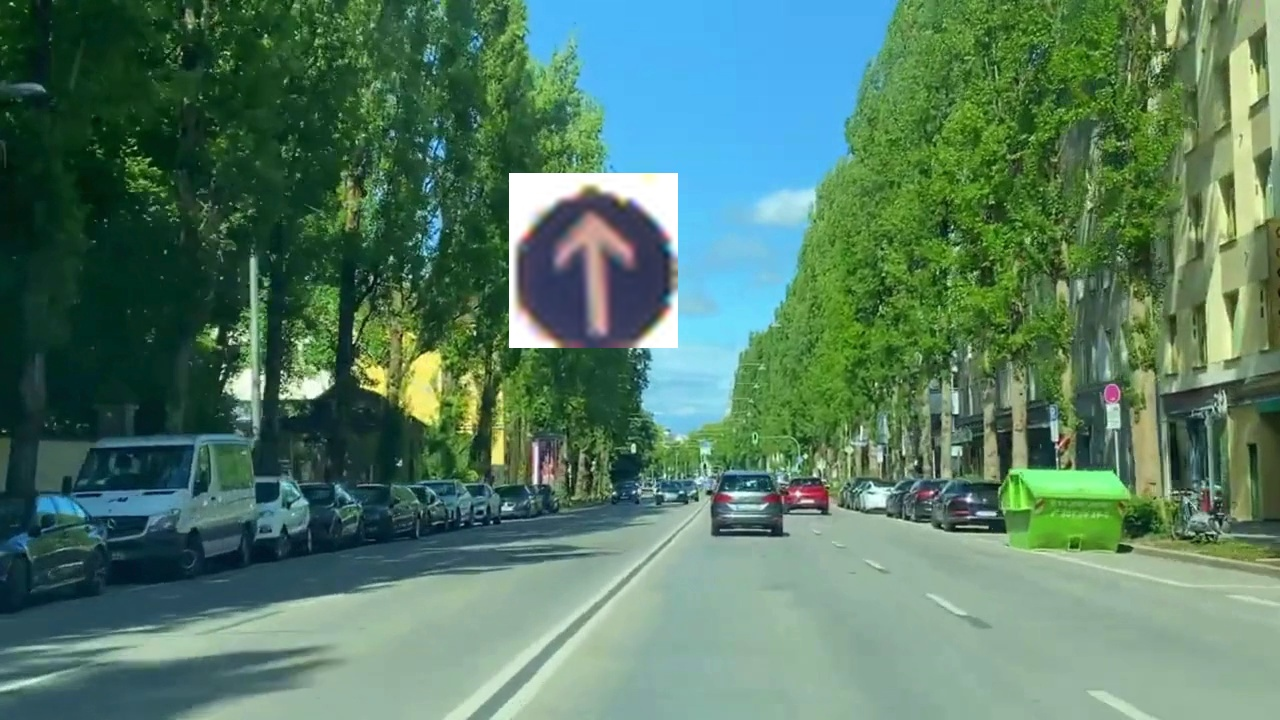Ahead only: (509, 173, 678, 348)
